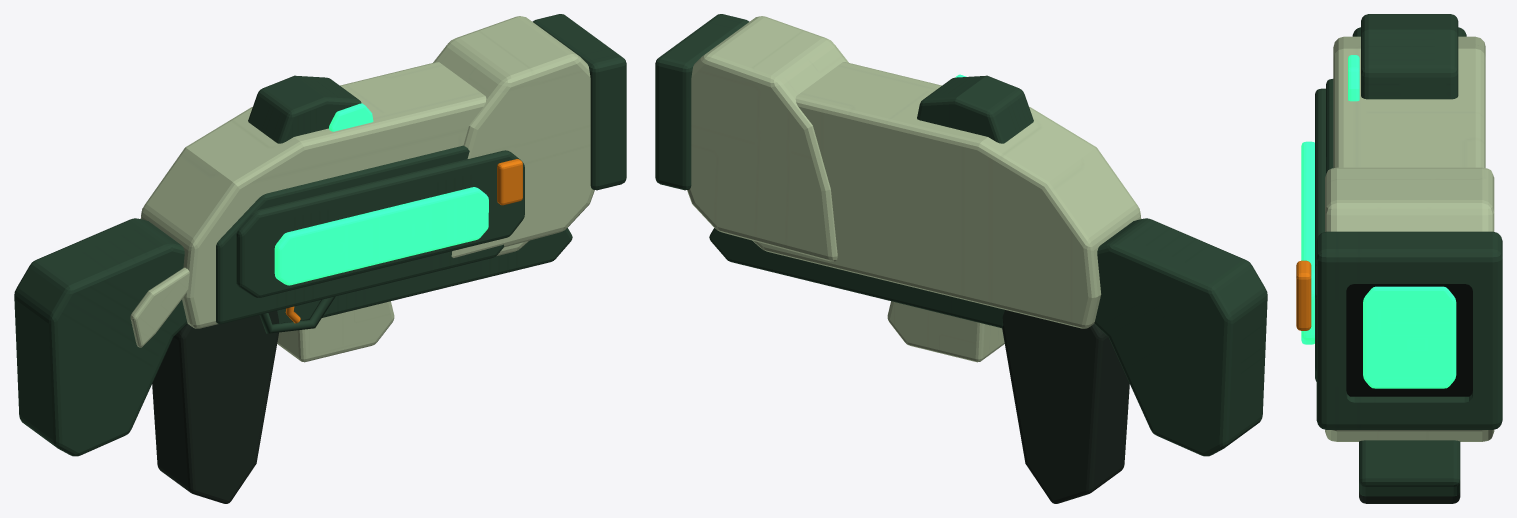
Rendered from asset.fbx.
3 renders of one model, left to right at view 1: azimuth 30°, elevation 25°; view 2: azimuth 150°, elevation 25°; view 3: azimuth 270°, elevation 25°, orthographic. The views are drawn at different scales.
Visible parts, largest first — view 1: item.lasergun.rear_frame__LOD0, item.lasergun.body_shell__LOD0, item.lasergun.front_housing__LOD0, item.lasergun.grip__LOD0, item.lasergun.energy_window_frame__LOD0, item.lasergun.barrel_core__LOD0, item.lasergun.structural_band__LOD0, item.lasergun.muzzle_frame__LOD0, item.lasergun.lower_rail__LOD0, item.lasergun.top_sight__LOD0, item.lasergun.fore_battery__LOD0, item.lasergun.rear_panel__LOD0 (+3 smaller); view 2: item.lasergun.body_shell__LOD0, item.lasergun.rear_frame__LOD0, item.lasergun.front_housing__LOD0, item.lasergun.grip__LOD0, item.lasergun.muzzle_frame__LOD0, item.lasergun.lower_rail__LOD0, item.lasergun.top_sight__LOD0, item.lasergun.fore_battery__LOD0; view 3: item.lasergun.muzzle_frame__LOD0, item.lasergun.body_shell__LOD0, item.lasergun.front_housing__LOD0, item.lasergun.muzzle_emitter__LOD0, item.lasergun.top_sight__LOD0, item.lasergun.lower_rail__LOD0, item.lasergun.muzzle_aperture__LOD0, item.lasergun.barrel_core__LOD0, item.lasergun.energy_window_frame__LOD0, item.lasergun.control_button__LOD0, item.lasergun.grip__LOD0, item.lasergun.structural_band__LOD0 (+1 smaller).
Boxes of the visible parts, x1,y1,x2,y2 form: item.lasergun.rear_frame__LOD0: (14, 218, 187, 456); item.lasergun.body_shell__LOD0: (140, 62, 529, 328); item.lasergun.front_housing__LOD0: (433, 16, 594, 257); item.lasergun.grip__LOD0: (152, 310, 278, 503); item.lasergun.energy_window_frame__LOD0: (236, 150, 524, 297); item.lasergun.barrel_core__LOD0: (274, 187, 488, 285); item.lasergun.structural_band__LOD0: (216, 145, 504, 324); item.lasergun.muzzle_frame__LOD0: (532, 14, 626, 190); item.lasergun.lower_rail__LOD0: (277, 228, 572, 323); item.lasergun.top_sight__LOD0: (248, 75, 361, 143); item.lasergun.fore_battery__LOD0: (277, 301, 394, 362); item.lasergun.rear_panel__LOD0: (130, 267, 189, 347); item.lasergun.body_shell__LOD0: (752, 62, 1141, 328); item.lasergun.rear_frame__LOD0: (1094, 218, 1267, 456); item.lasergun.front_housing__LOD0: (687, 16, 848, 261); item.lasergun.grip__LOD0: (1002, 310, 1129, 503); item.lasergun.muzzle_frame__LOD0: (655, 14, 749, 190); item.lasergun.lower_rail__LOD0: (709, 228, 1004, 328); item.lasergun.top_sight__LOD0: (917, 75, 1033, 143); item.lasergun.fore_battery__LOD0: (887, 301, 1004, 362); item.lasergun.muzzle_frame__LOD0: (1316, 231, 1502, 429); item.lasergun.body_shell__LOD0: (1333, 36, 1485, 168); item.lasergun.front_housing__LOD0: (1325, 167, 1494, 441); item.lasergun.muzzle_emitter__LOD0: (1363, 286, 1456, 388); item.lasergun.top_sight__LOD0: (1361, 14, 1458, 99); item.lasergun.lower_rail__LOD0: (1359, 440, 1460, 496); item.lasergun.muzzle_aperture__LOD0: (1346, 284, 1472, 396); item.lasergun.barrel_core__LOD0: (1301, 141, 1314, 344); item.lasergun.energy_window_frame__LOD0: (1315, 88, 1325, 381); item.lasergun.control_button__LOD0: (1296, 260, 1311, 330); item.lasergun.grip__LOD0: (1359, 491, 1460, 503); item.lasergun.structural_band__LOD0: (1326, 79, 1333, 174).
Size of what is drawn, in the model's own units: 1.09 by 0.707 by 0.244.
